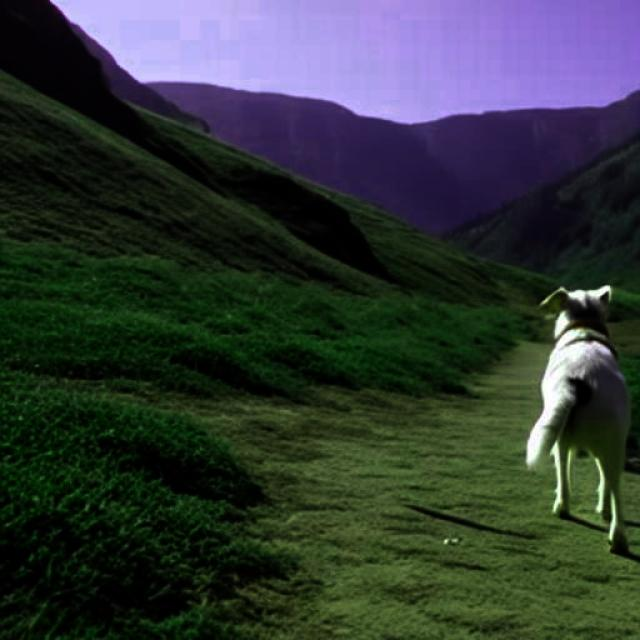Dog: (524, 284, 630, 558)
